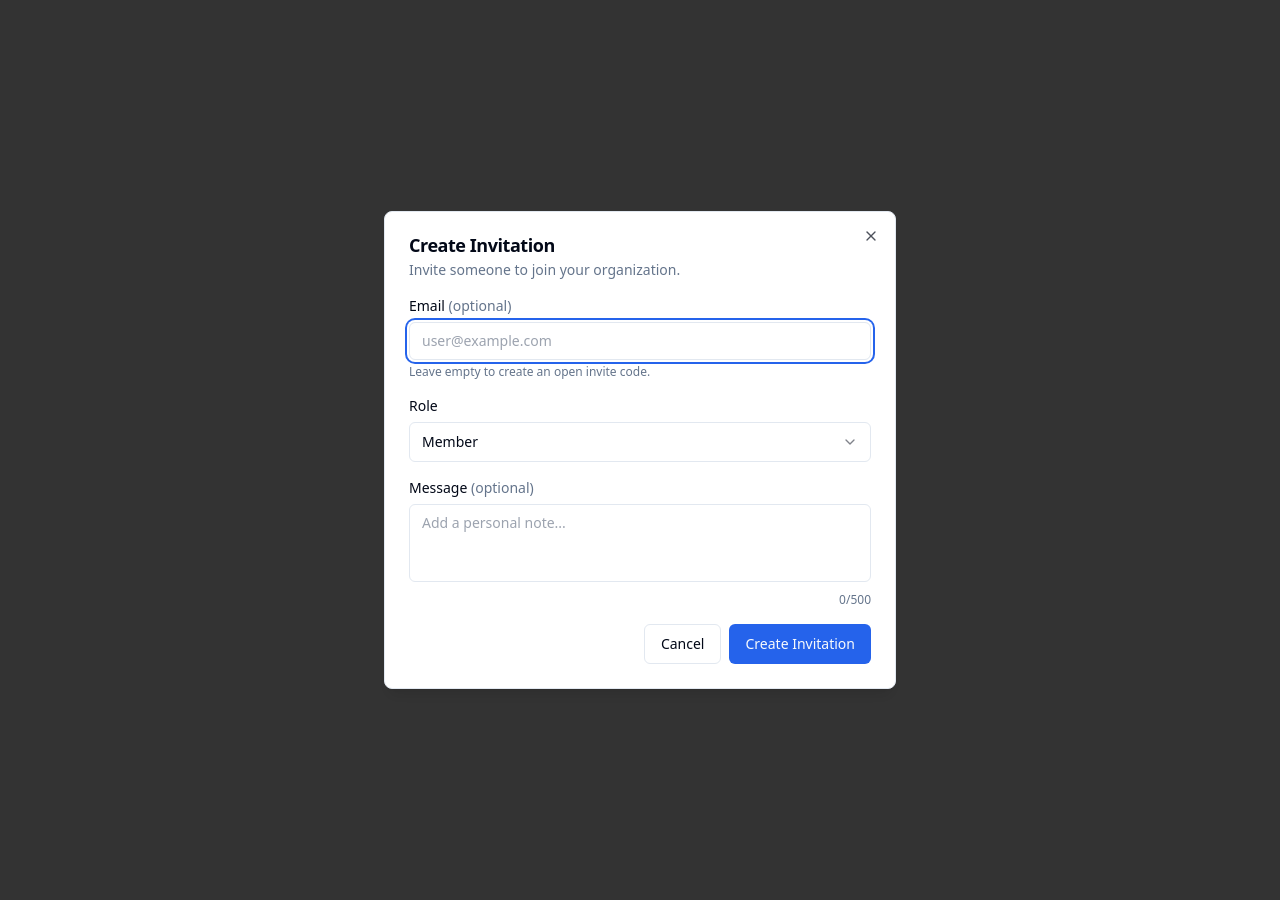
it: CreateInvitationDialog › should show short code after successful creation
This screenshot has width=1280, height=900.
Click the button "Create Invitation" at (800, 644), box [730, 624, 871, 664]
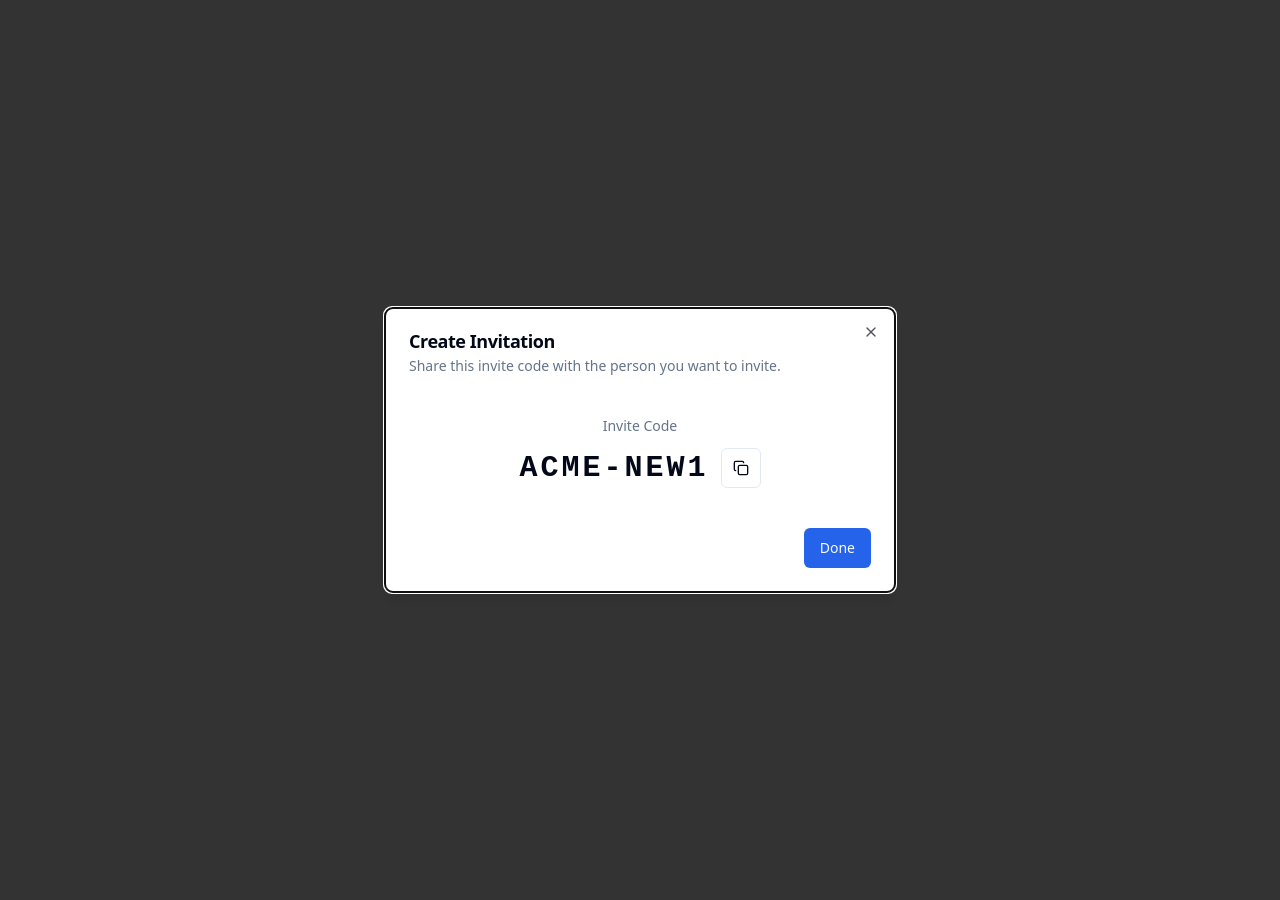
Expected: the text "ACME-NEW1" is shown, [520, 450, 708, 486]
Expected: the text "Invite Code" is shown, [603, 416, 677, 436]
